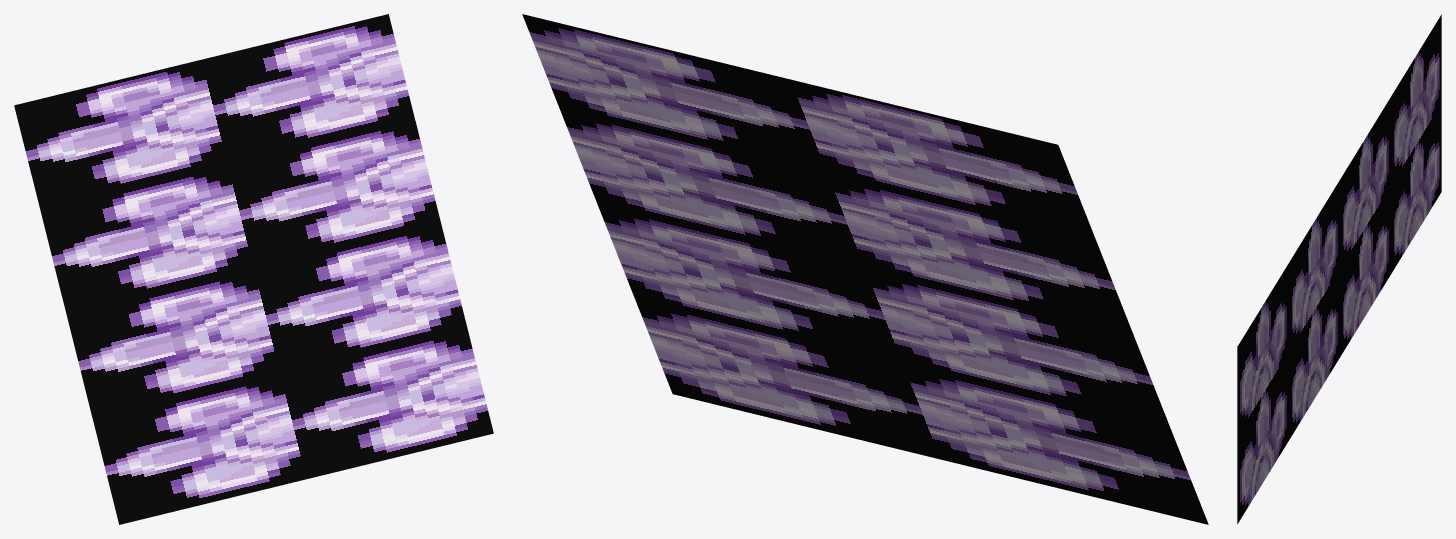
File: 0104obj_kessyo06.gltf
The picture shows the model from 3 angles, left to right: view 1: azimuth 30°, elevation 25°; view 2: azimuth 150°, elevation 25°; view 3: azimuth 270°, elevation 25°; orthographic projection. The views are drawn at different scales.
Visible parts, largest first — view 1: 0104obj_kessyo06; view 2: 0104obj_kessyo06; view 3: 0104obj_kessyo06.
Boxes of the visible parts, x1,y1,x2,y2 form: 0104obj_kessyo06: [14, 14, 493, 524]; 0104obj_kessyo06: [522, 14, 1208, 524]; 0104obj_kessyo06: [1237, 14, 1441, 524].
Size of the model in its own units: 0.6968 by 0.6089 by 0.3389.
Materials: 1 (1 with a texture image).
